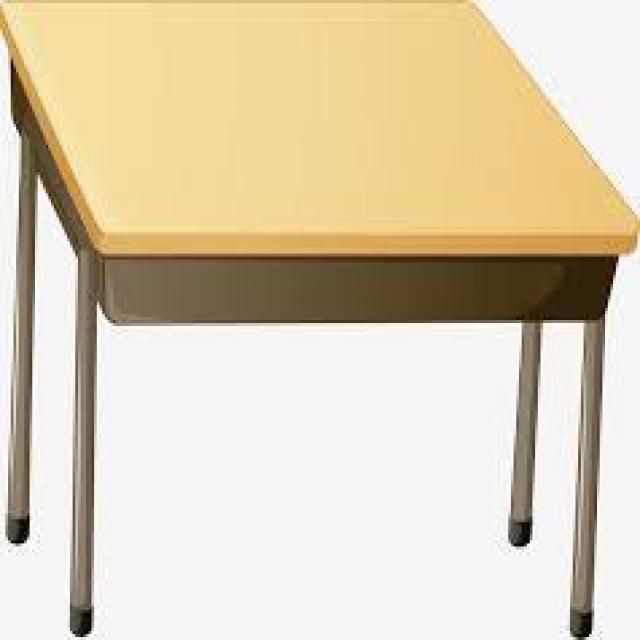table: (12, 5, 623, 596)
